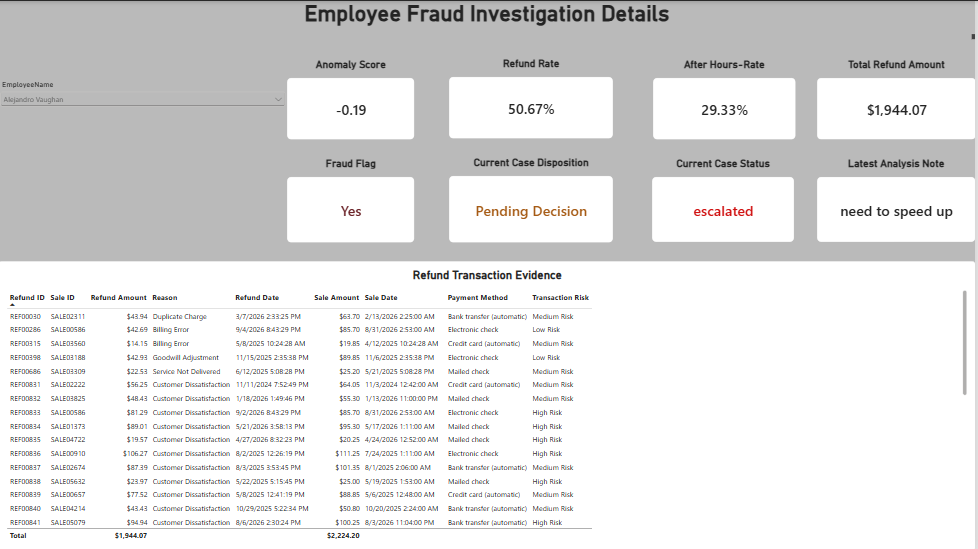

The page's visual inventory and layout, read from the dashboard file:
{"tool":"powerbi","page":{"name":"Investigation Details","canvas":[1920,1080],"ordinal":1},"visuals":[{"type":"slicer","fields":{"Values":["isolation_forest_results.EmployeeName"]},"box":[0,154.2,569.1,319.1],"z":0},{"type":"cardVisual","title":"Anomaly Score","fields":{"Data":["Sum(isolation_forest_results.Anomaly_Score)"]},"box":[568,112,250.7,160],"z":1000},{"type":"cardVisual","title":"Refund Rate","fields":{"Data":["Sum(isolation_forest_results.RefundRate)"]},"box":[885.3,109.3,322.7,160],"z":2000},{"type":"cardVisual","title":"After Hours-Rate","fields":{"Data":["Sum(isolation_forest_results.AfterHoursRate)"]},"box":[1285.3,112,280,160],"z":3000},{"type":"cardVisual","title":"Total Refund Amount ","fields":{"Data":["Sum(isolation_forest_results.TotalRefundAmount)"]},"box":[1608,112,312,160],"z":4000},{"type":"cardVisual","title":"Fraud  Flag ","fields":{"Data":["Min(isolation_forest_results.Is_Flagged_Fraud)"]},"box":[568,306.7,250.7,168],"z":5000},{"type":"cardVisual","title":"Current Case Status","fields":{"Data":["Min(investigations.CaseStatus)"]},"box":[1284.4,305.8,279.2,167.5],"z":6000},{"type":"cardVisual","title":"Current Case Disposition","fields":{"Data":["Min(investigations.Disposition Display)"]},"box":[885.3,304,322.7,170.7],"z":7000},{"type":"cardVisual","title":"Latest Analysis Note","fields":{"Data":["Min(investigations.AnalystNotes)"]},"box":[1608,306.7,311.1,167.5],"z":8000},{"type":"tableEx","title":"Refund Transaction Evidence","fields":{"Values":["refunds.RefundID","refunds.SaleID","Sum(refunds.RefundAmount)","refunds.Reason","refunds.RefundDate","Sum(refunds.Sale Amount)","refunds.Sale Date","refunds.Payment Method","refunds.Transaction Risk"]},"box":[0,510.6,1920,569.1],"z":9000},{"type":"textbox","title":"Employee Fraud Investigation Details","box":[0,0,1920,74.7],"z":10000}]}

Visuals, with their boxes in screenshot pixels (x1, y1, x2, y2), scaled from the page's 1920x1080 canvas onto the 978x549 screenshot:
slicer - isolation_forest_results.EmployeeName: locate(0, 78, 290, 241)
"Anomaly Score" cardVisual: locate(289, 57, 417, 138)
"Refund Rate" cardVisual: locate(451, 56, 615, 137)
"After Hours-Rate" cardVisual: locate(655, 57, 797, 138)
"Total Refund Amount " cardVisual: locate(819, 57, 977, 138)
"Fraud  Flag " cardVisual: locate(289, 156, 417, 241)
"Current Case Status" cardVisual: locate(654, 155, 796, 241)
"Current Case Disposition" cardVisual: locate(451, 155, 615, 241)
"Latest Analysis Note" cardVisual: locate(819, 156, 977, 241)
"Refund Transaction Evidence" tableEx: locate(0, 260, 977, 548)
"Employee Fraud Investigation Details" textbox: locate(0, 0, 977, 38)
